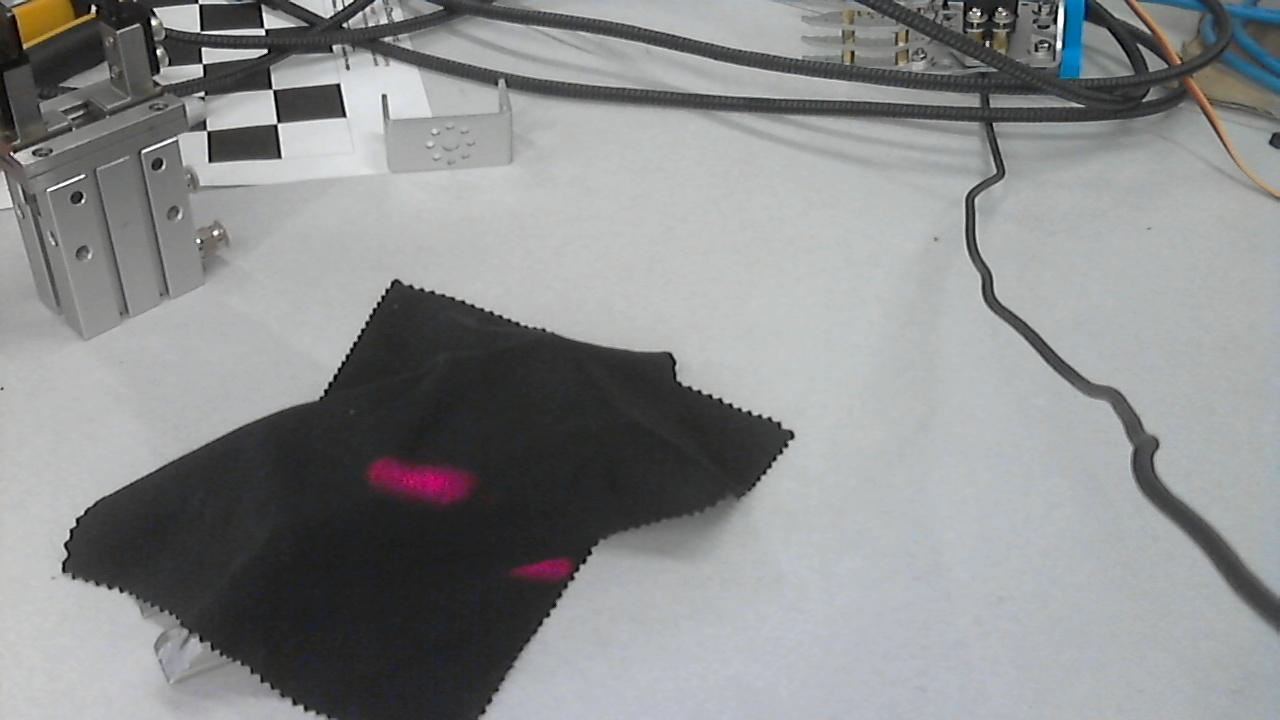Object plastic container lid - Material plastic - Color red - Pdfname ZC63DBkv6o: (345, 451, 576, 596)
